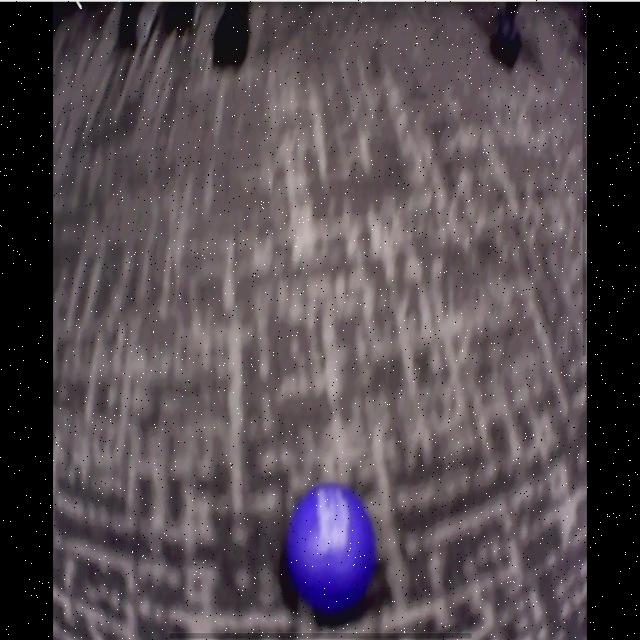ball: (288, 485, 372, 616)
